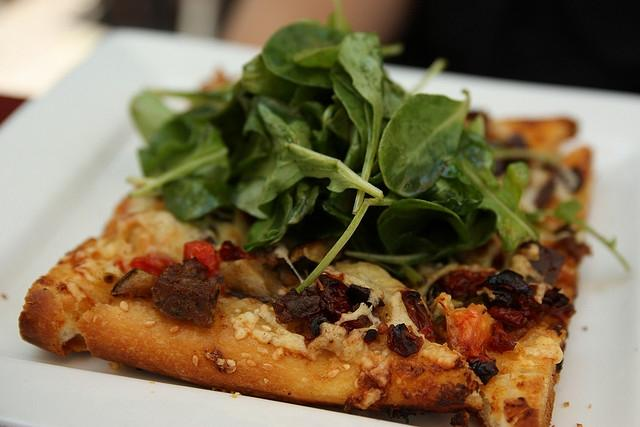tomato: (434, 292, 517, 385), (184, 240, 221, 278), (130, 250, 182, 276), (218, 240, 255, 260)
